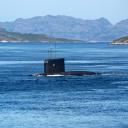submarine: (29, 42, 106, 77)
